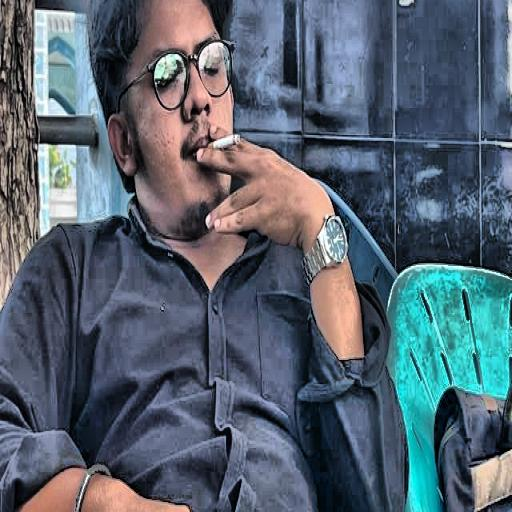Asbak: (208, 134, 239, 146)
Merokok: (108, 0, 332, 280), (313, 272, 362, 356)
